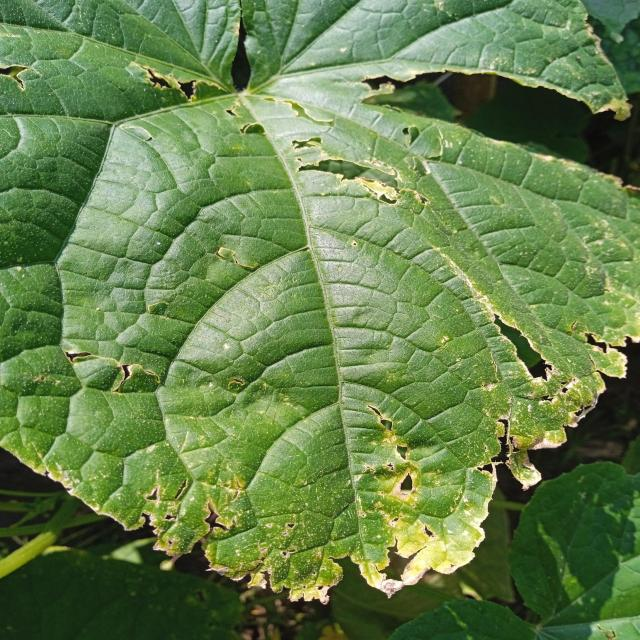cucumber_anthracnose: (6, 28, 640, 608)
